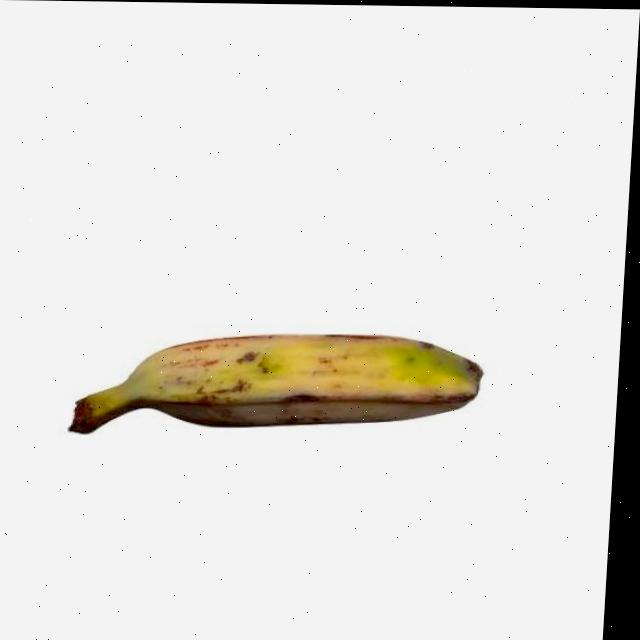banana: (119, 325, 491, 439)
